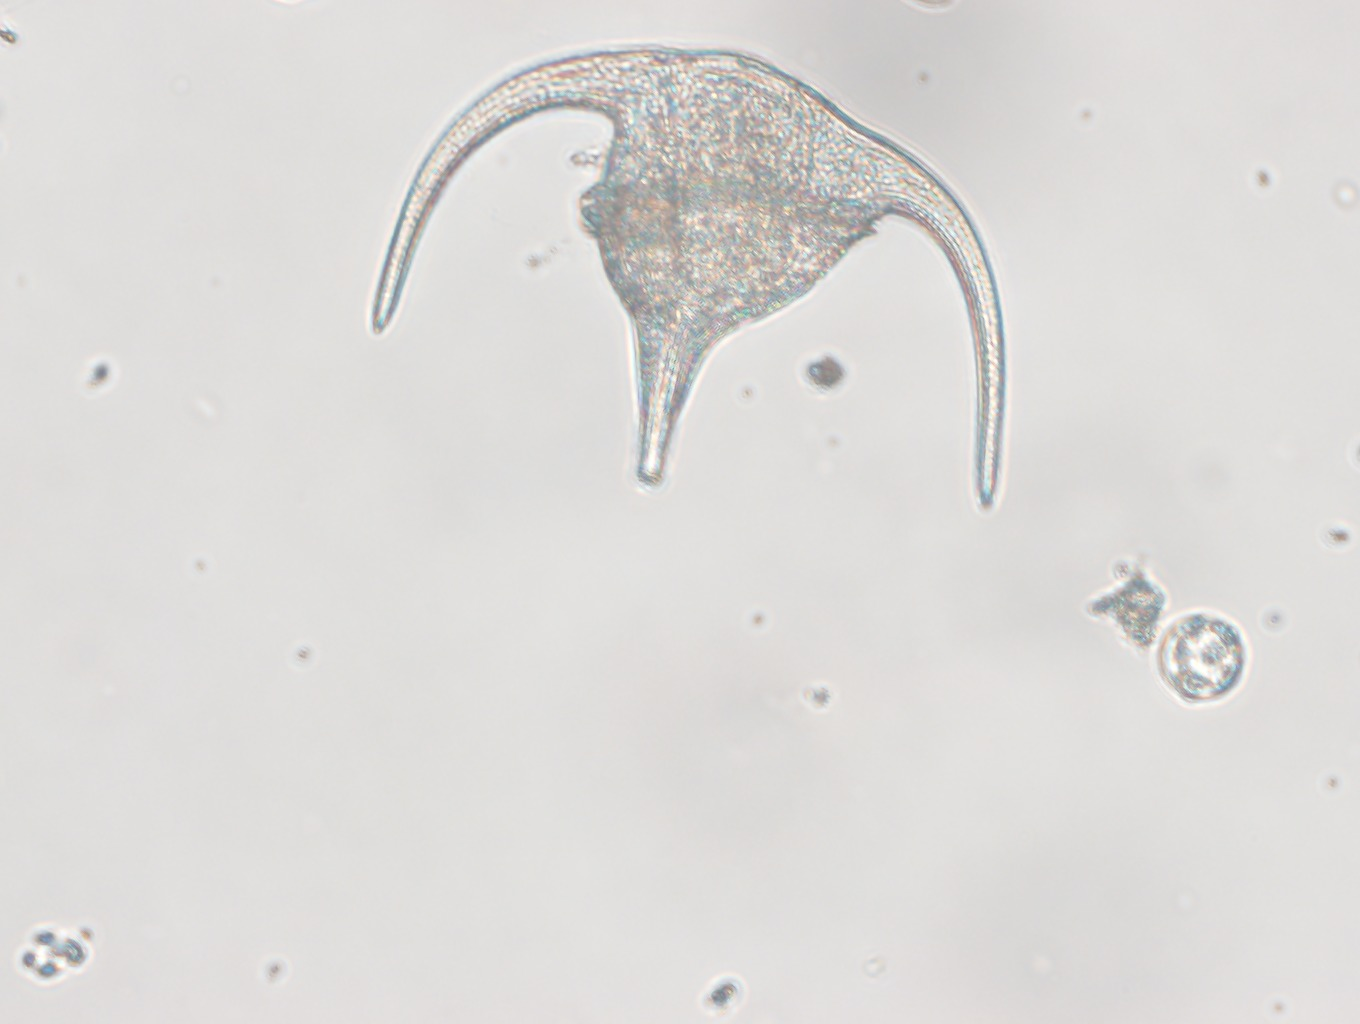ceratium tripos: (372, 44, 1007, 513)
